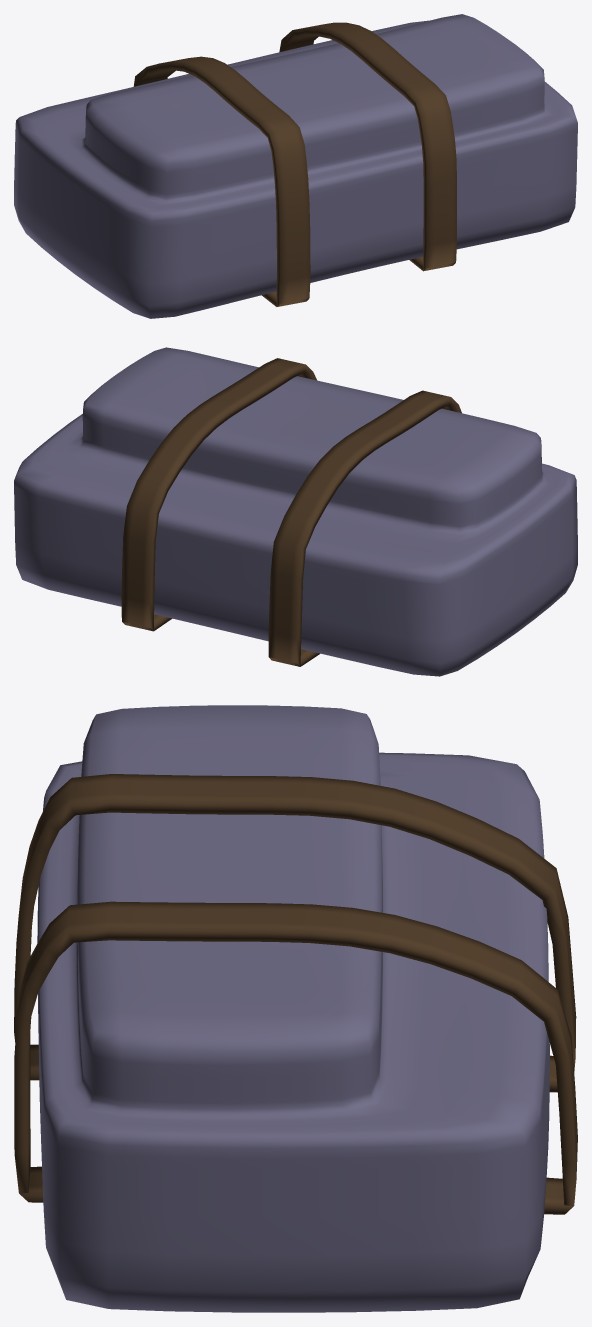
The model's file is bag.fbx.
3 views of the same model, one above another, from view 1: azimuth 30°, elevation 25°; view 2: azimuth 150°, elevation 25°; view 3: azimuth 270°, elevation 25° (orthographic). The views are drawn at different scales.
Visible parts, largest first — view 1: Cube.015; view 2: Cube.015; view 3: Cube.015.
Part boxes in pixels (x1,y1,x2,y2): Cube.015: (14, 14, 577, 318); Cube.015: (14, 347, 577, 676); Cube.015: (14, 705, 577, 1312).
Bounding box in the file's own units: 45.5 × 16.26 × 28.53.
